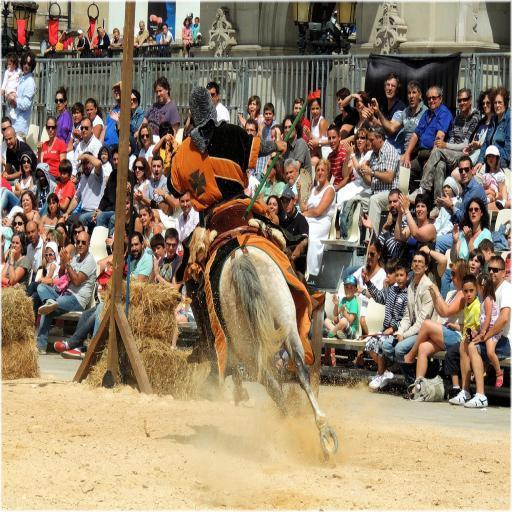horse: (218, 244, 340, 456)
